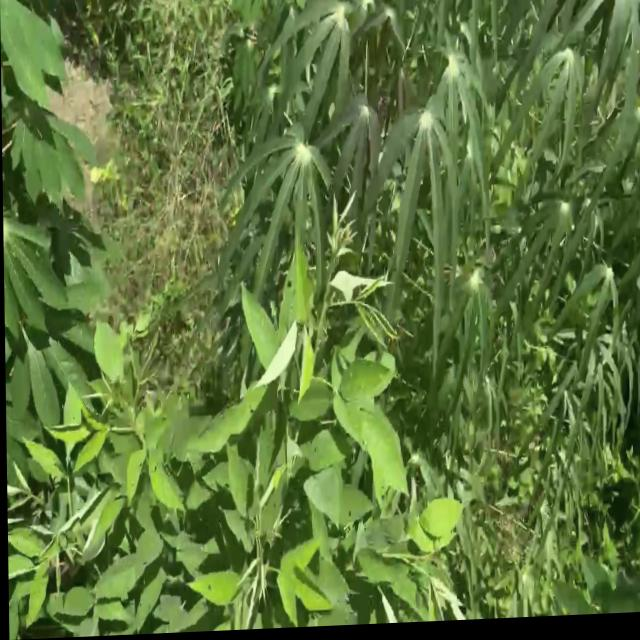Maleza: (289, 255, 458, 599), (167, 317, 370, 579), (68, 410, 263, 593), (14, 491, 169, 635)
